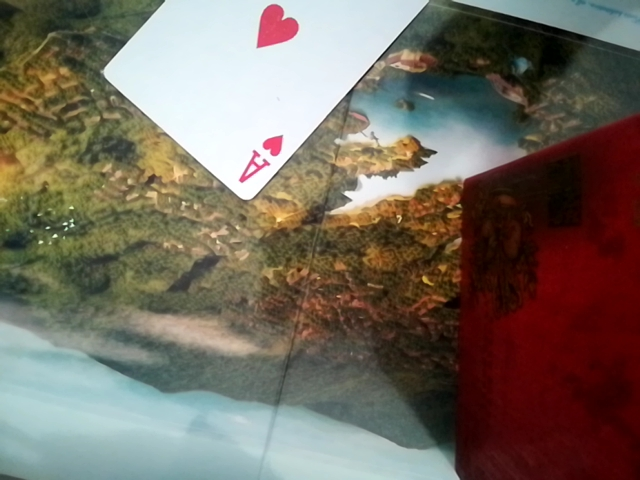hx a: (99, 0, 440, 198)
